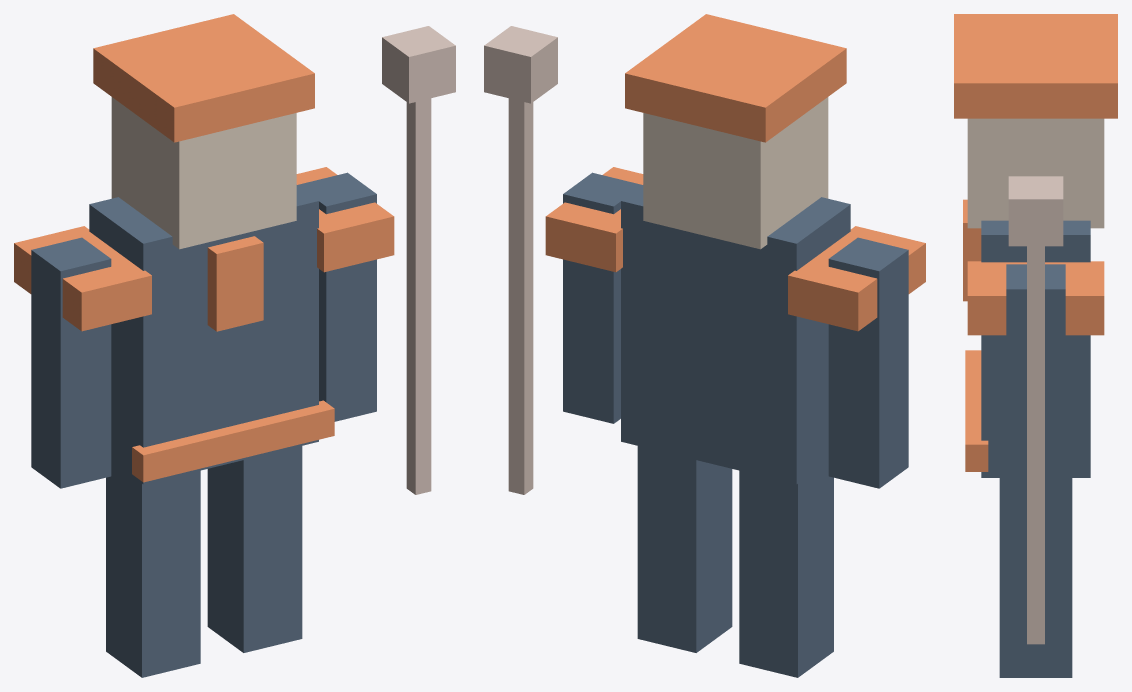
The model's file is 09_calder_voxmere_smith_from_cargo.glb.
The picture shows the model from 3 angles, left to right: view 1: azimuth 30°, elevation 25°; view 2: azimuth 150°, elevation 25°; view 3: azimuth 270°, elevation 25°; orthographic projection.
Visible parts, largest first — view 1: Calder Voxmere, Smith from Cargo; view 2: Calder Voxmere, Smith from Cargo; view 3: Calder Voxmere, Smith from Cargo.
Part boxes in pixels (<box>): Calder Voxmere, Smith from Cargo: <box>14,14,455,677</box>; Calder Voxmere, Smith from Cargo: <box>484,14,925,677</box>; Calder Voxmere, Smith from Cargo: <box>954,14,1117,677</box>.
Size of the model in its own units: 1.03 by 1.45 by 0.3661.
